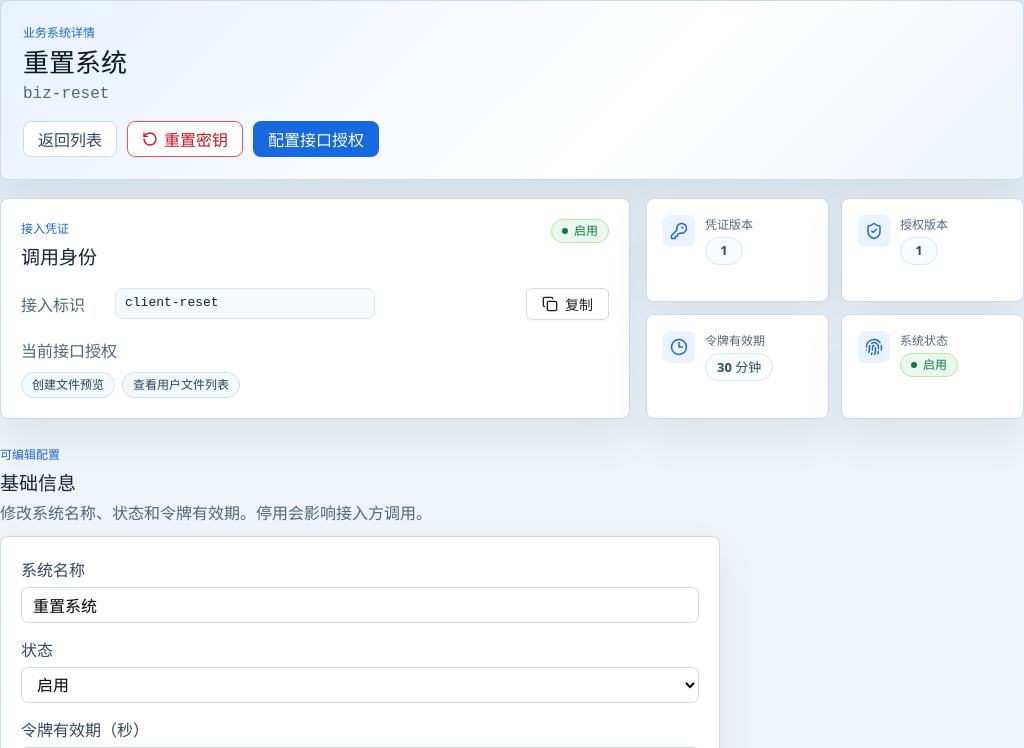
Scenario: BusinessSystemDetailPage › resets client secret with confirmation and shows new token version
Expected: the heading "重置系统" is shown, [23, 44, 127, 80]
Expected: the list item "创建文件预览" is shown, [21, 372, 115, 398]
Click the button "重置密钥" at (185, 138), box [127, 120, 243, 156]
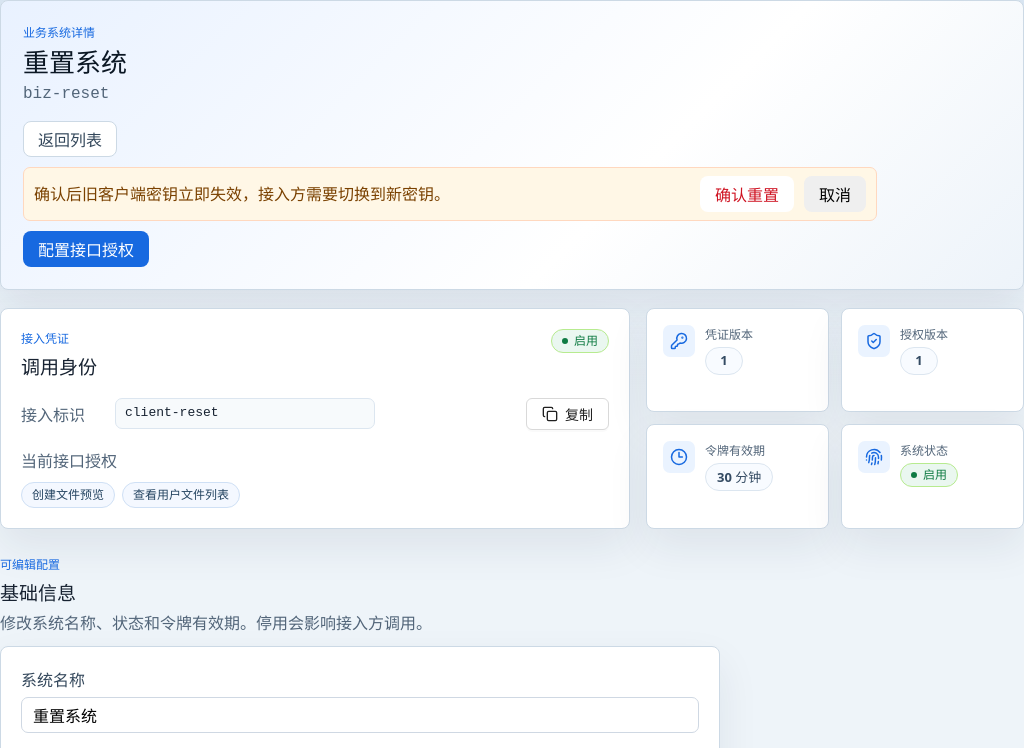
Click the button "确认重置" at (747, 194), box [700, 176, 794, 212]
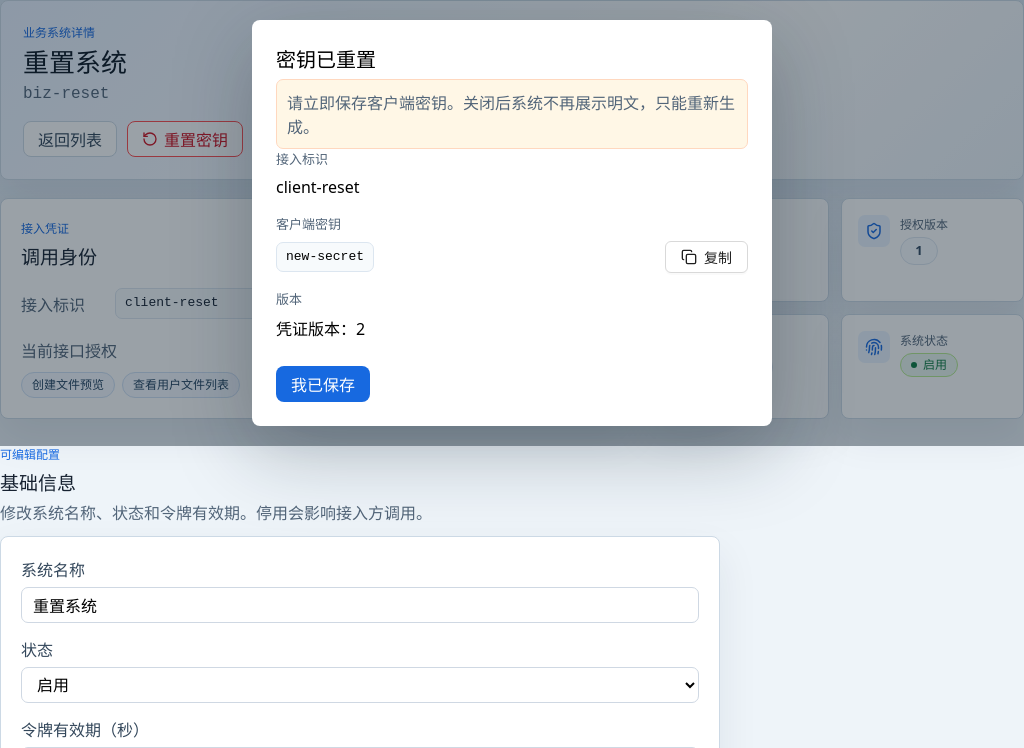
Now the text "new-secret" is shown, box [276, 242, 374, 272]
Now the text "凭证版本：2" is shown, box [276, 318, 365, 340]
